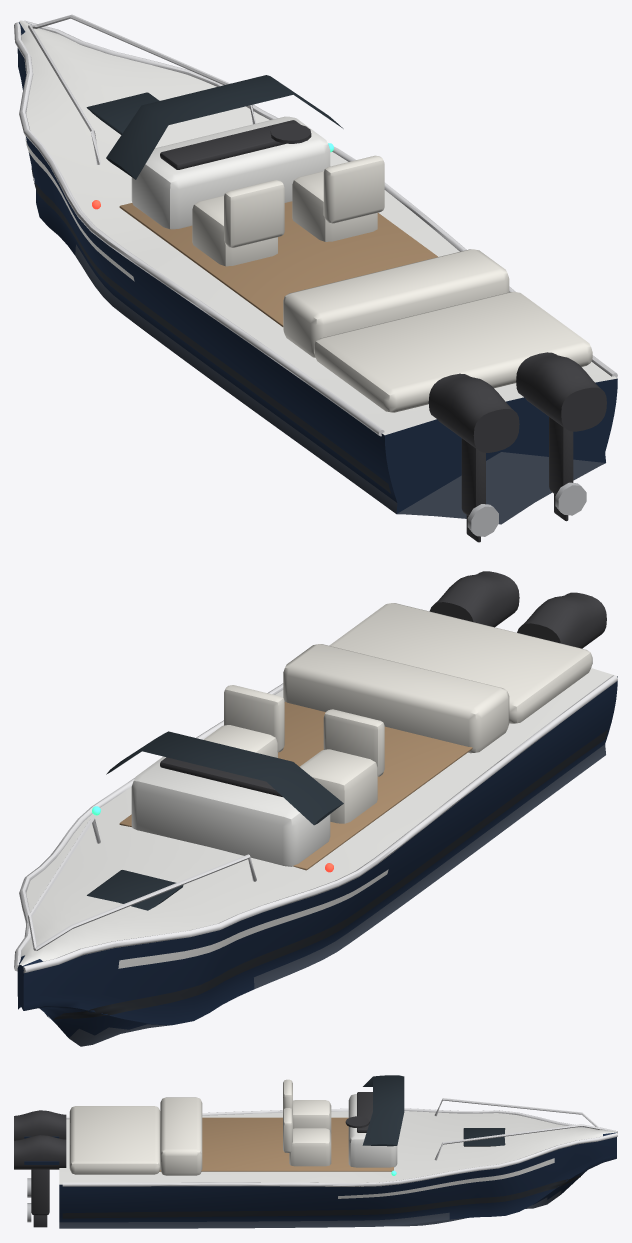
File: swift.glb
3 renders of one model, top to bottom at view 1: azimuth 30°, elevation 25°; view 2: azimuth 150°, elevation 25°; view 3: azimuth 270°, elevation 25°, orthographic. The views are drawn at different scales.
Parts seen in each view (by area): view 1: Body, Outboard; view 2: Body, Outboard; view 3: Body, Outboard.
Boxes of the visible parts, box(x1,y1,x2,y2) form: Body: box(14, 14, 617, 524); Outboard: box(428, 352, 606, 542); Body: box(14, 603, 617, 1046); Outboard: box(429, 571, 606, 648); Body: box(59, 1075, 617, 1228); Outboard: box(14, 1110, 66, 1227).
Bounding box in the file's own units: 2.6 × 2.11 × 8.66.
